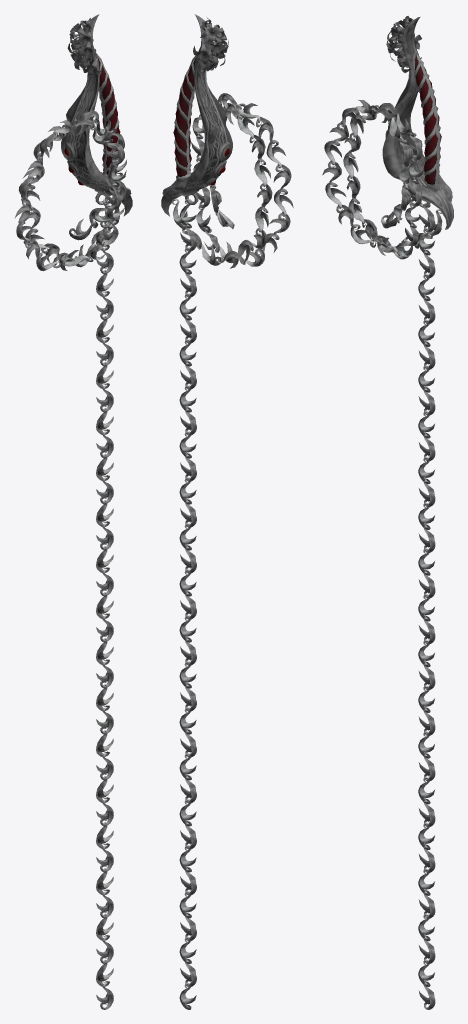
File: weapon-wp_a_1206.glb
The picture shows the model from 3 angles, left to right: view 1: azimuth 30°, elevation 25°; view 2: azimuth 150°, elevation 25°; view 3: azimuth 330°, elevation 25°; orthographic projection.
Visible parts, largest first — view 1: wp_a_1206_mesh; view 2: wp_a_1206_mesh; view 3: wp_a_1206_mesh.
Boxes of the visible parts, x1,y1,x2,y2 form: wp_a_1206_mesh: (14, 14, 132, 1009); wp_a_1206_mesh: (161, 14, 293, 1009); wp_a_1206_mesh: (322, 16, 453, 1009).
Bounding box in the file's own units: 0.318 × 2.48 × 0.1529.
Materials: 2 (2 with a texture image).
